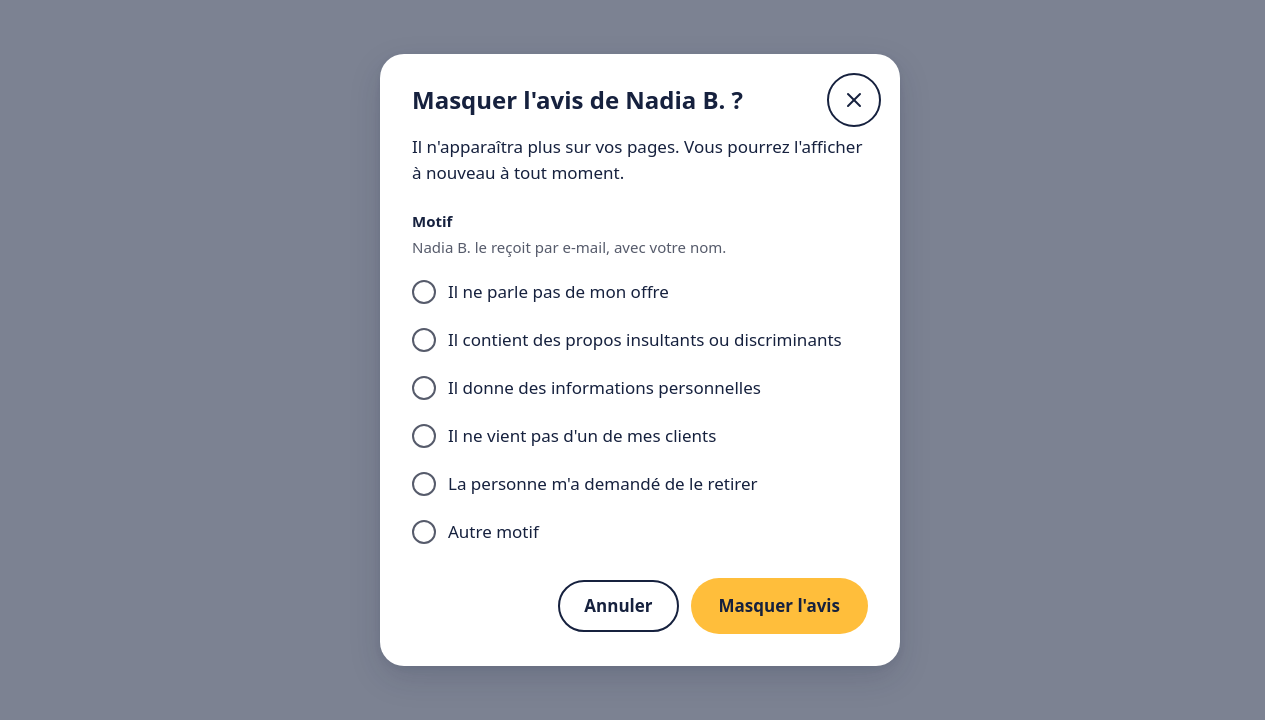
Test: HideTestimonialDialog › brings the focus to the missing answer, and announces the error
Click the button "Masquer l'avis" at [779, 606], box [690,578,868,634]
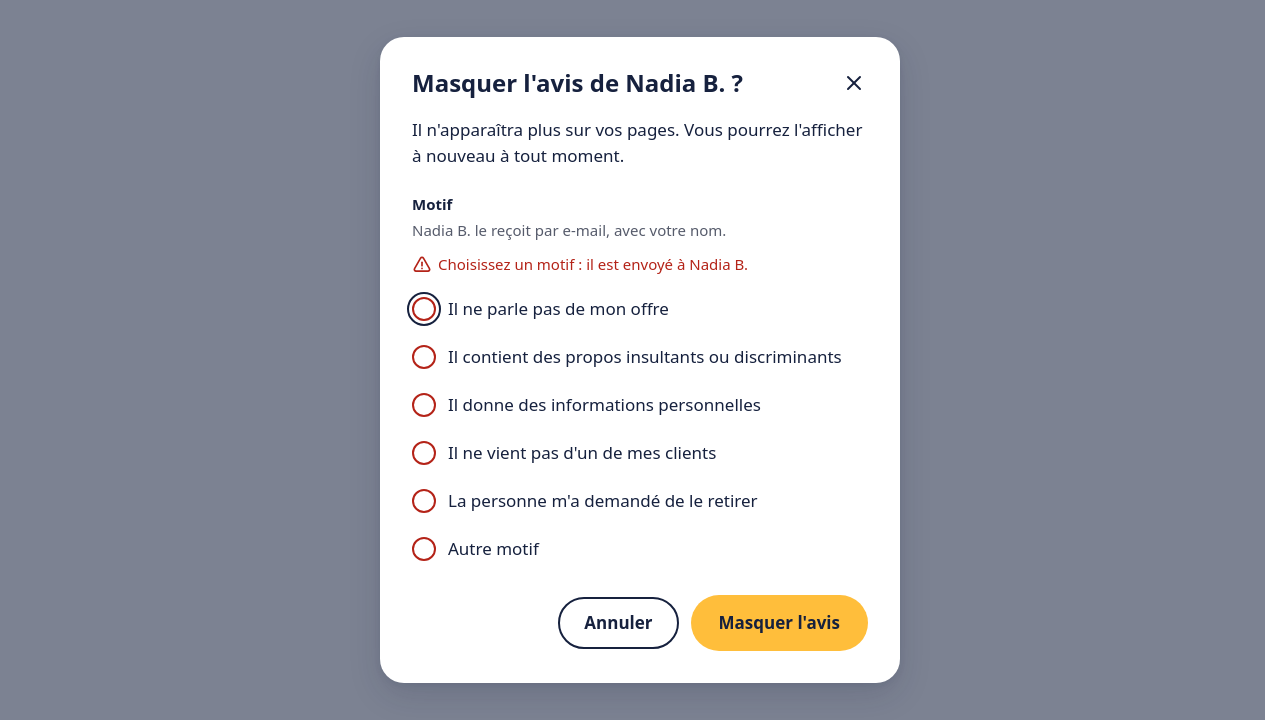
Expected: the message "Choisissez un motif : il est envoyé à Nadia B." is shown, [412,254,748,274]
Click the radio button labelled "Autre motif" at [424, 549], box [412,537,436,561]
(page scrolled)
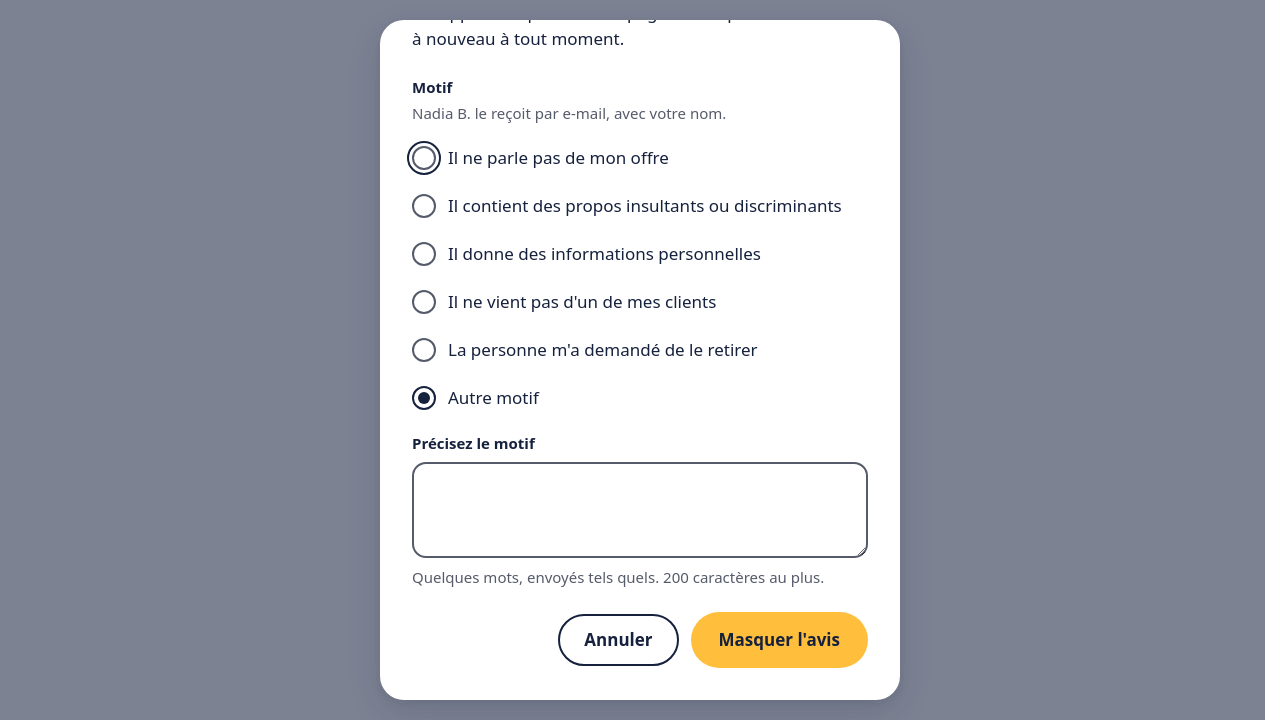
Click the button "Masquer l'avis" at [779, 640], box [690,612,868,668]
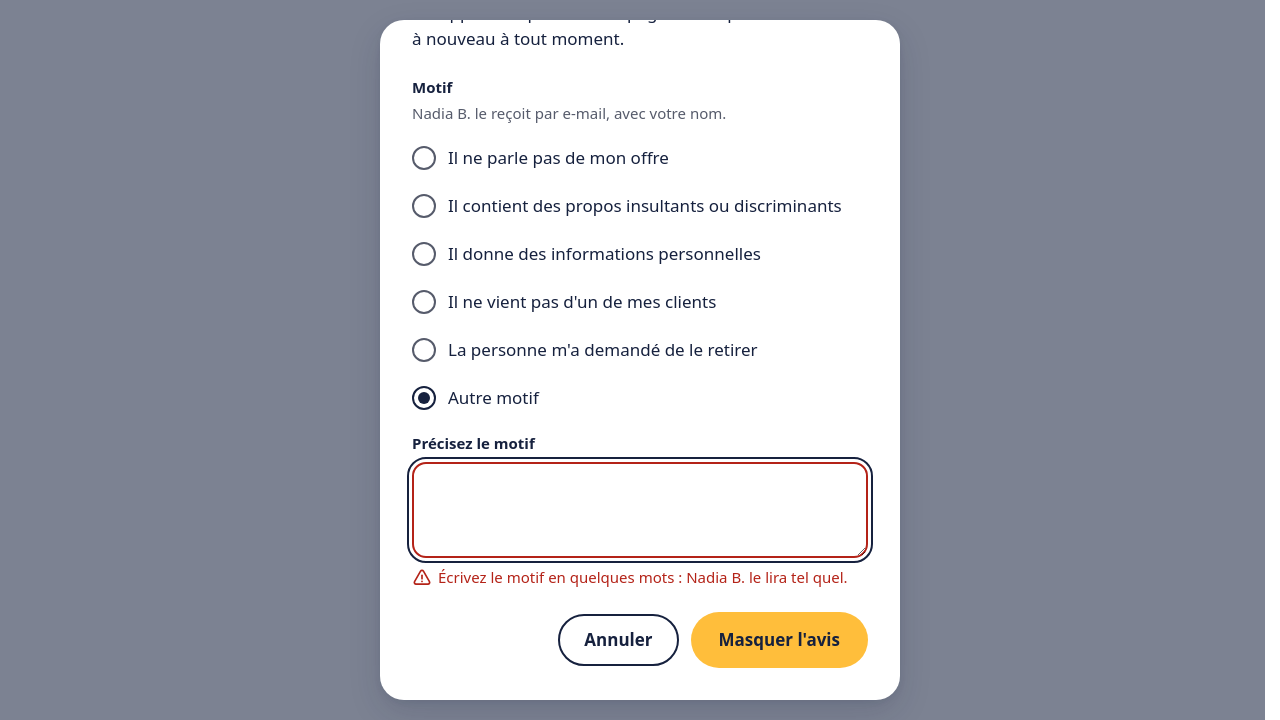
Expected: the message "Écrivez le motif en quelques mots : Nadia B. le lira tel quel." is shown, [412,566,868,588]
